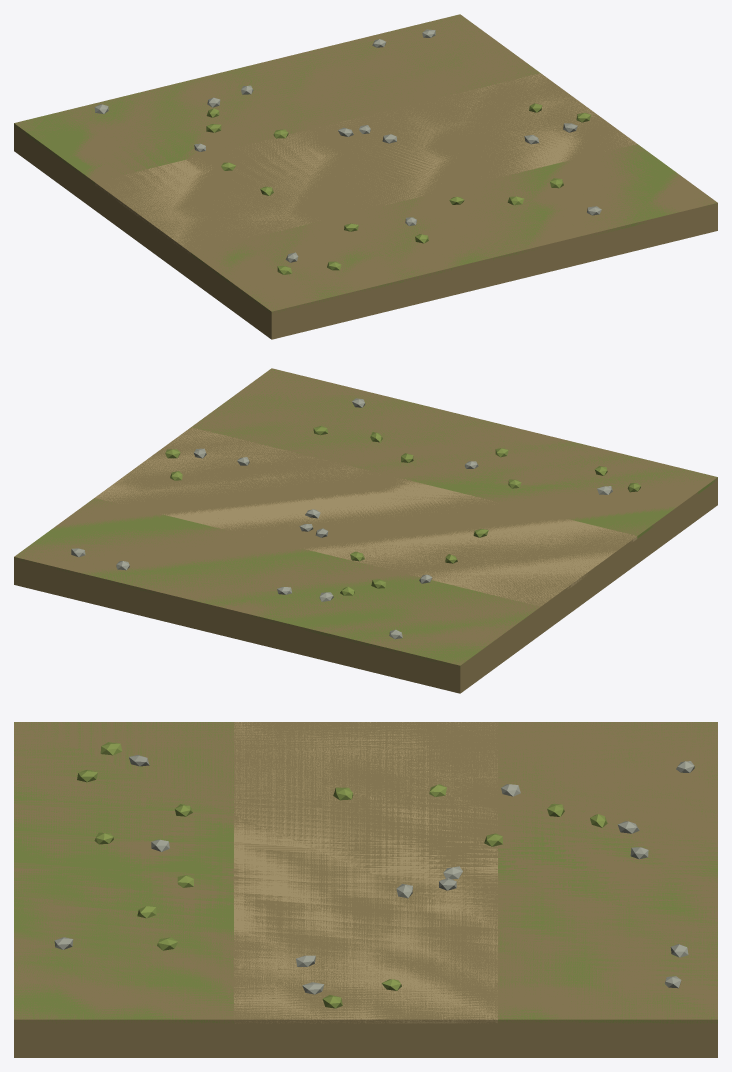
The model's file is BP_Tile_Straight_4m.fbx.
The picture shows the model from 3 angles, top to bottom: view 1: azimuth 30°, elevation 25°; view 2: azimuth 150°, elevation 25°; view 3: azimuth 270°, elevation 25°; orthographic projection. The views are drawn at different scales.
Parts seen in each view (by area): view 1: BP_Tile_Straight_4m; view 2: BP_Tile_Straight_4m; view 3: BP_Tile_Straight_4m.
Part boxes in pixels (x1,y1,x2,y2): BP_Tile_Straight_4m: (14, 14, 717, 339); BP_Tile_Straight_4m: (14, 368, 717, 693); BP_Tile_Straight_4m: (14, 722, 717, 1057).
Size of the model in its own units: 400 by 31.55 by 400.
